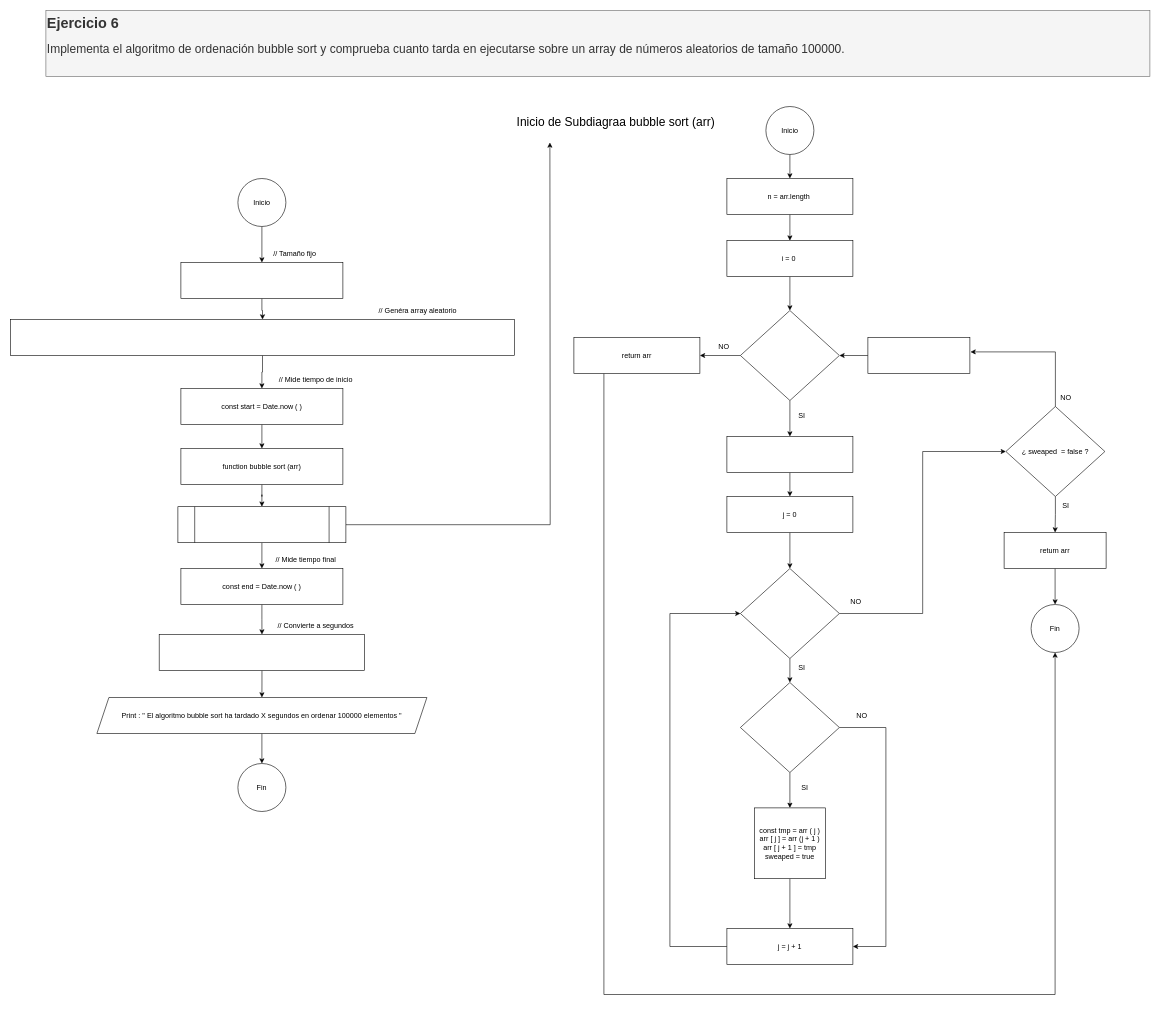
This 1160x1010 diagram has some shape labels left out. The centre of each missing label's shape, as x and y in pixels:
const array = array.from ({length:size}, ( ) => Math.floor(Math.random( )*size): (x=262, y=337)
const elapsedSeconds = (end - start ) / 1000: (x=262, y=652)
const size = 100000: (x=261, y=280)
i = i + 1: (x=918, y=355)
Inicio de subdiagrama bubble sort (arr): (x=261, y=524)
swaped = false: (x=789, y=454)
¿ arr [ j ] > arr [ j + 1 ] ?: (x=789, y=727)
¿ i < n -1 ?: (x=789, y=355)
¿ j < n -1 - i ?: (x=789, y=613)
